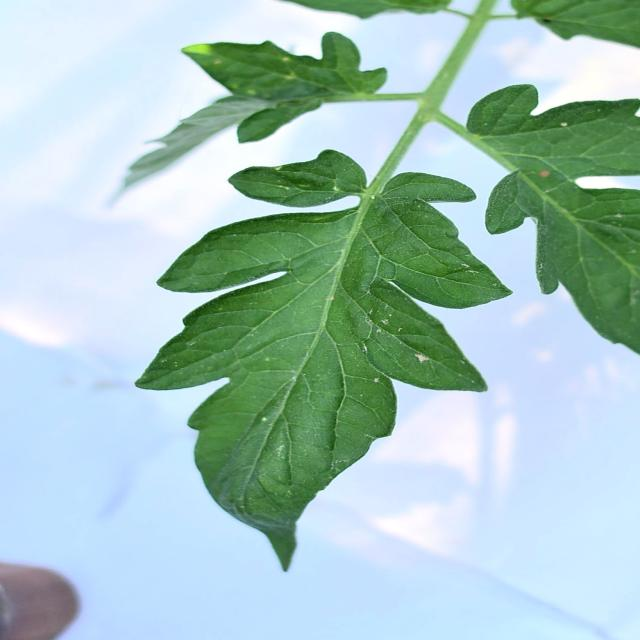healthy: (122, 146, 516, 574), (458, 71, 640, 354), (168, 25, 390, 153)
